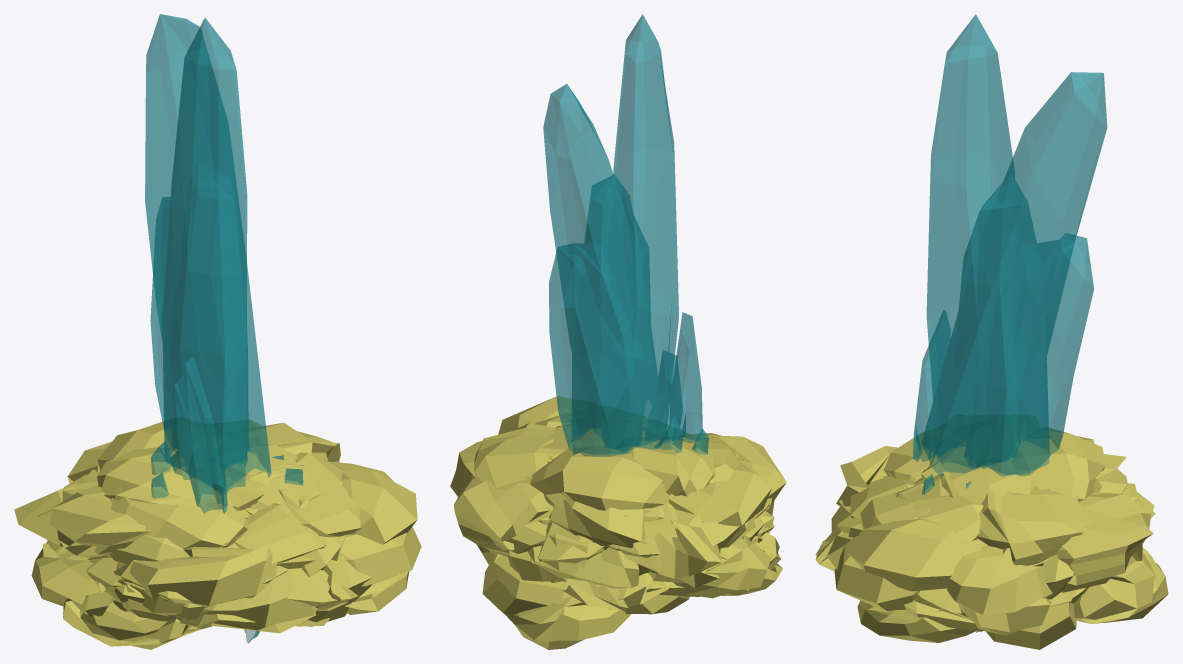
Rendered from crystal10.obj.
The picture shows the model from 3 angles, left to right: view 1: azimuth 30°, elevation 25°; view 2: azimuth 150°, elevation 25°; view 3: azimuth 270°, elevation 25°; orthographic projection. The views are drawn at different scales.
Parts seen in each view (by area): view 1: Cube.001, Circle; view 2: Cube.001, Circle; view 3: Circle, Cube.001.
Part boxes in pixels (left/top/right/bottom): Cube.001: left=14, top=419, right=421, bottom=649; Circle: left=145, top=14, right=303, bottom=643; Cube.001: left=450, top=396, right=786, bottom=649; Circle: left=543, top=14, right=708, bottom=456; Circle: left=913, top=14, right=1107, bottom=632; Cube.001: left=815, top=428, right=1168, bottom=649.
Size of the model in its own units: 2.79 by 4.9 by 2.59.
